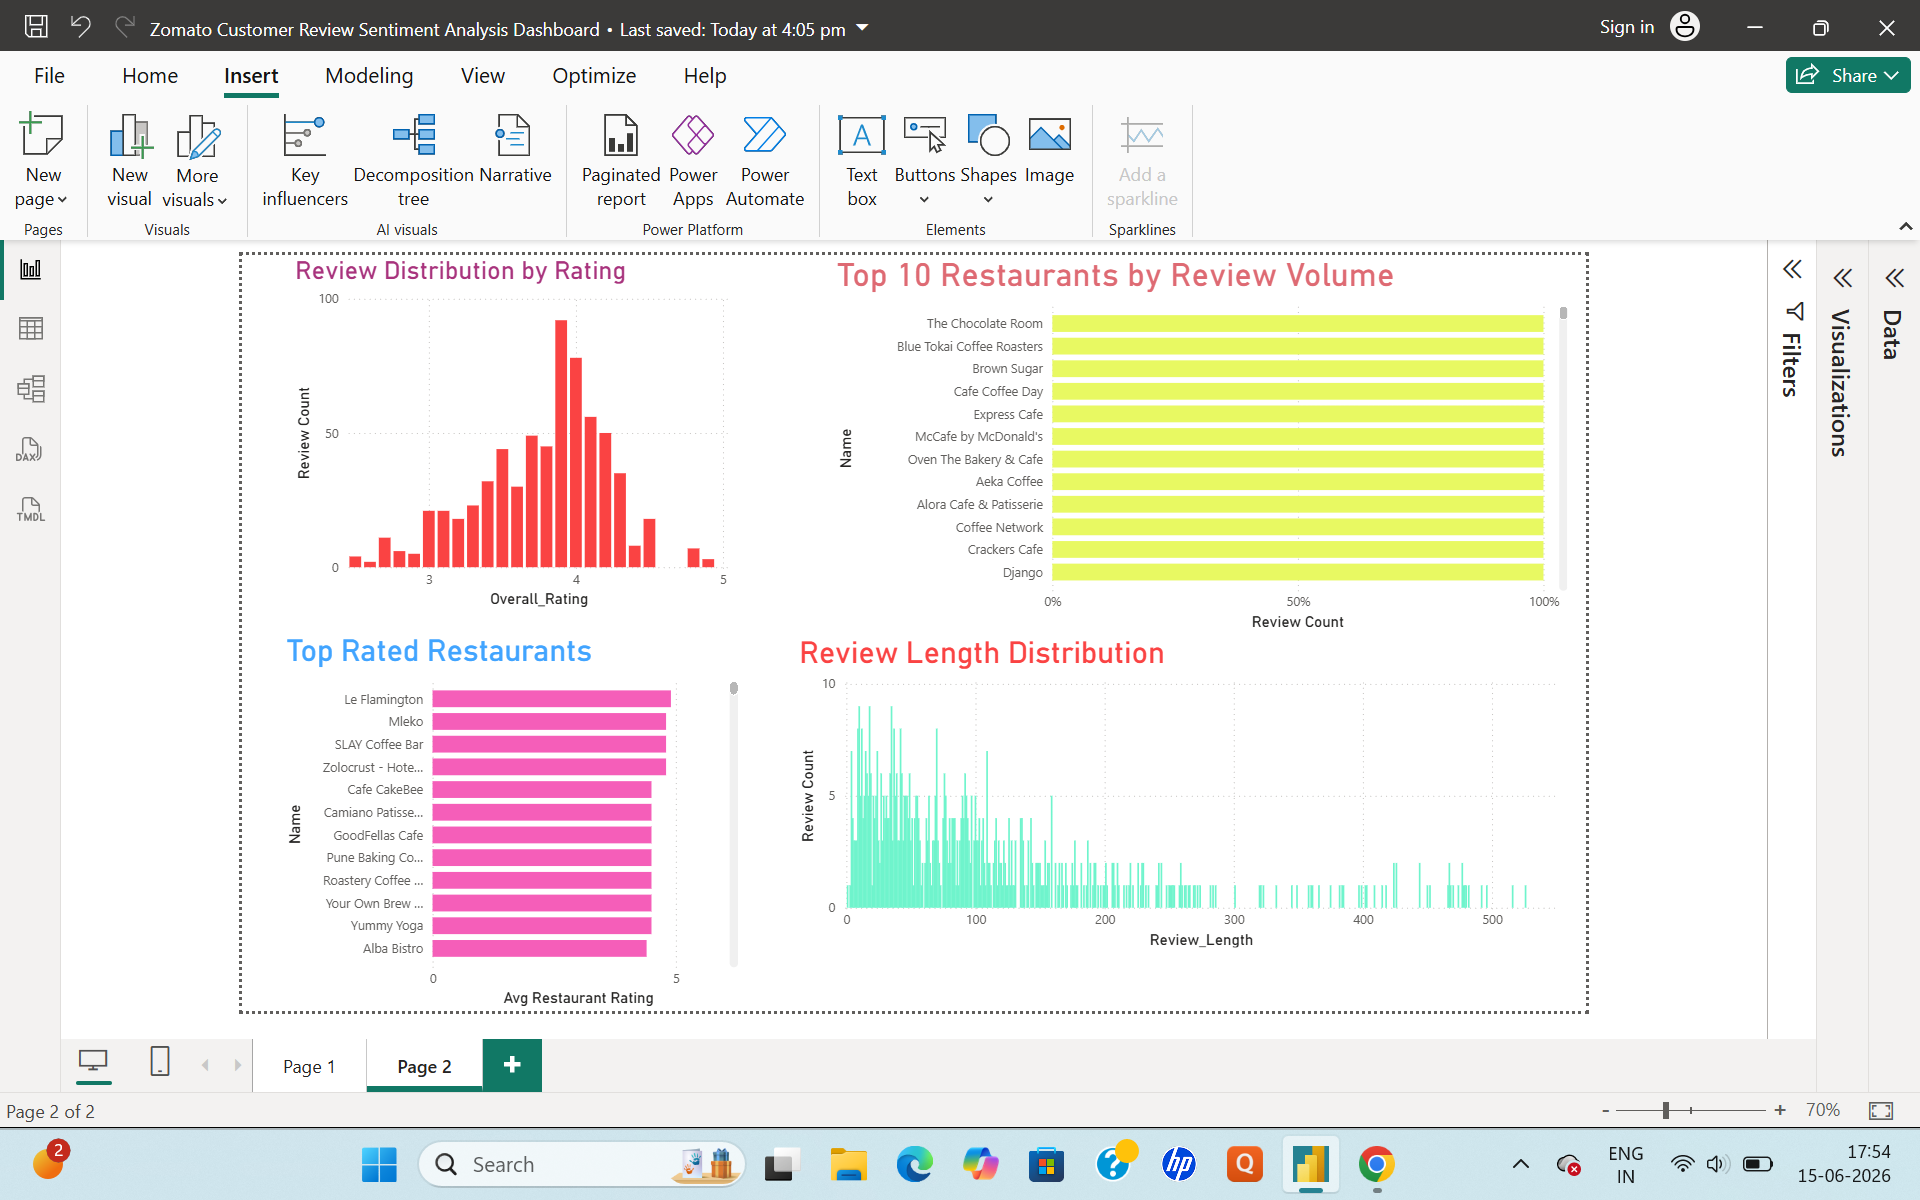

Layout of this report page (visuals, bound fields, positions):
{"tool":"powerbi","page":{"name":"Page 2","canvas":[1280,720],"ordinal":1},"visuals":[{"type":"clusteredColumnChart","title":"Review Distribution by Rating","fields":{"Category":["zomato_sentiment_final.Overall_Rating"],"Y":["zomato_sentiment_final.Review Count"]},"box":[45.7,0,422.9,340],"z":0},{"type":"hundredPercentStackedBarChart","title":"Top 10 Restaurants by Review Volume","fields":{"Category":["zomato_sentiment_final.Name"],"Y":["zomato_sentiment_final.Review Count"]},"box":[561.4,0,705.7,361.4],"z":1000},{"type":"barChart","title":"Top Rated Restaurants","fields":{"Y":["zomato_sentiment_final.Avg Restaurant Rating"],"Category":["zomato_sentiment_final.Name"]},"box":[37.1,360,440,360],"z":2000},{"type":"columnChart","title":"Review Length Distribution","fields":{"Category":["zomato_sentiment_final.Review_Length"],"Y":["zomato_sentiment_final.Review Count"]},"box":[525.7,361.4,741.4,302.9],"z":3000}]}

Visuals, with their boxes on the page's 1280x720 design canvas (x1, y1, x2, y2). These are canvas units, not pixel positions in the 1920x1200 screenshot, which may show the page scaled, cropped or inside an application window:
"Review Distribution by Rating" clusteredColumnChart: bbox=(46, 0, 469, 340)
"Top 10 Restaurants by Review Volume" hundredPercentStackedBarChart: bbox=(561, 0, 1267, 361)
"Top Rated Restaurants" barChart: bbox=(37, 360, 477, 720)
"Review Length Distribution" columnChart: bbox=(526, 361, 1267, 664)
